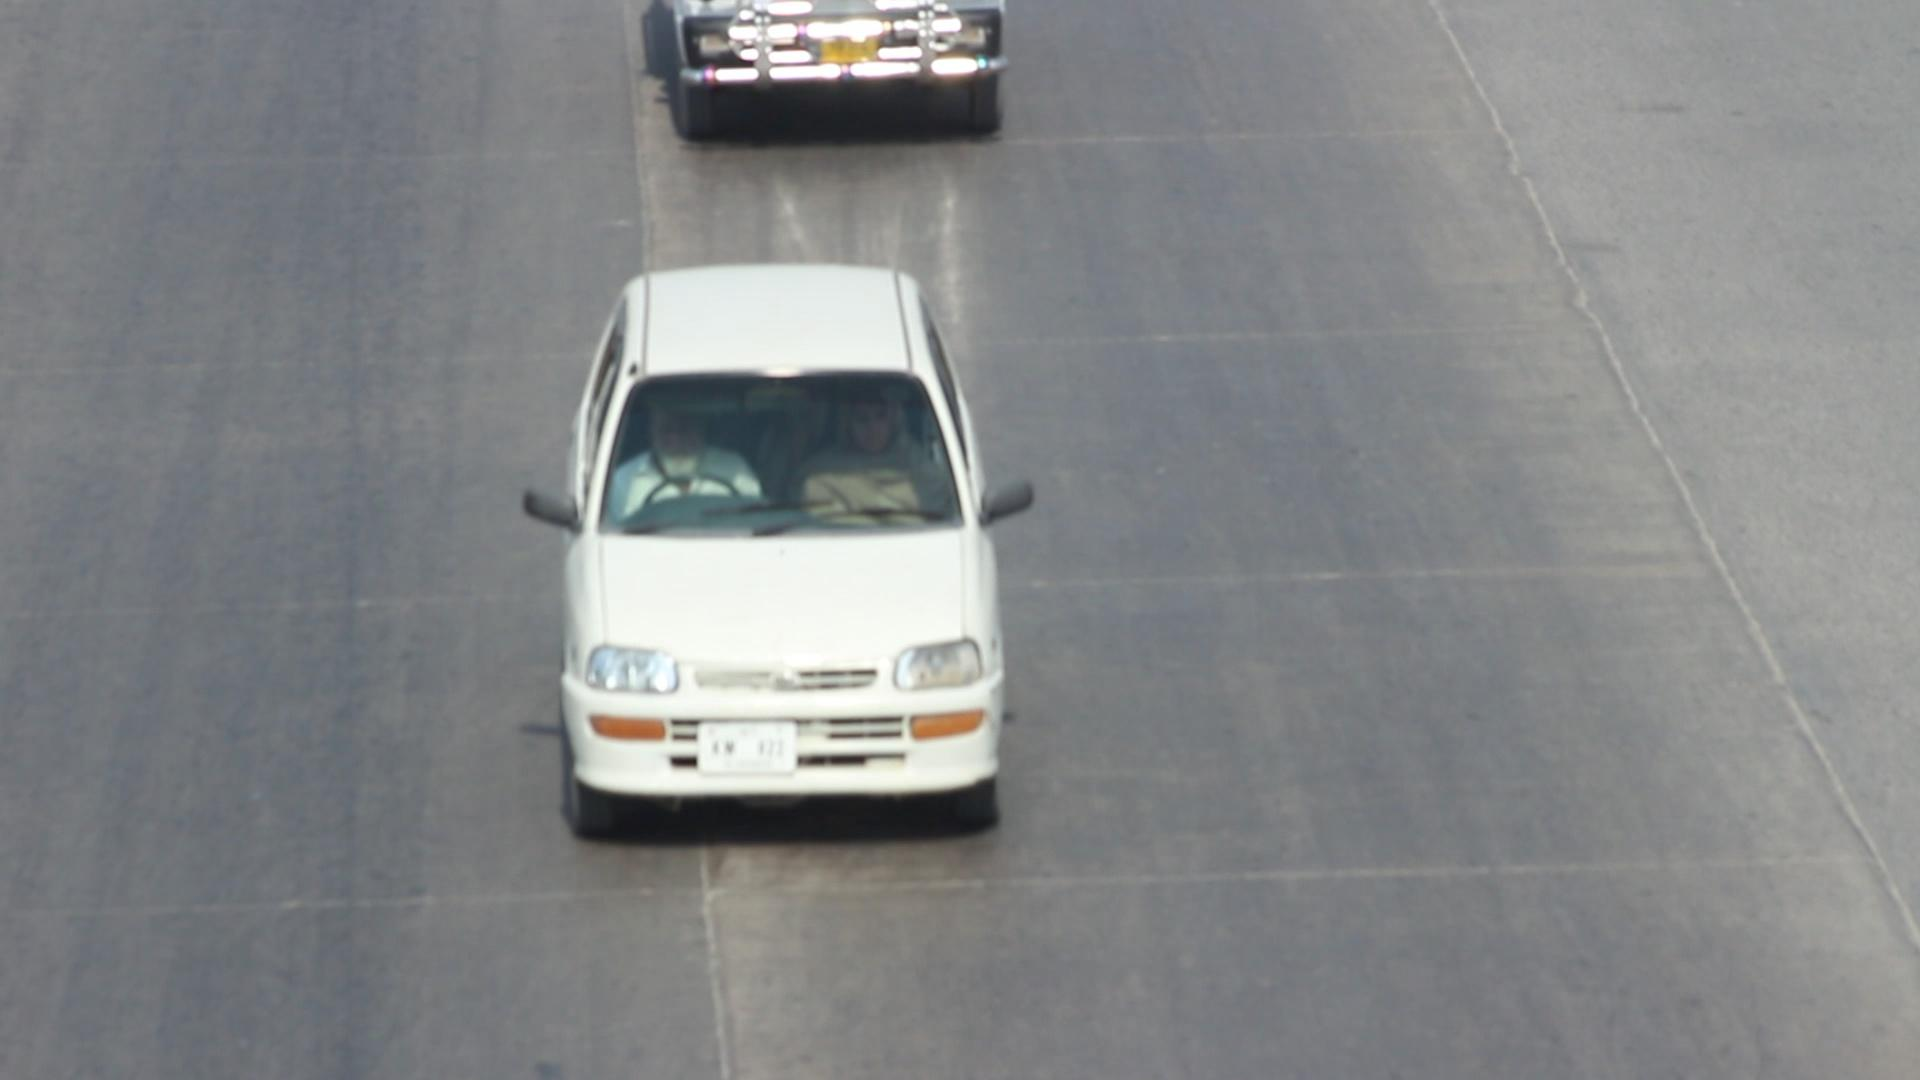windshield: (591, 347, 977, 537)
